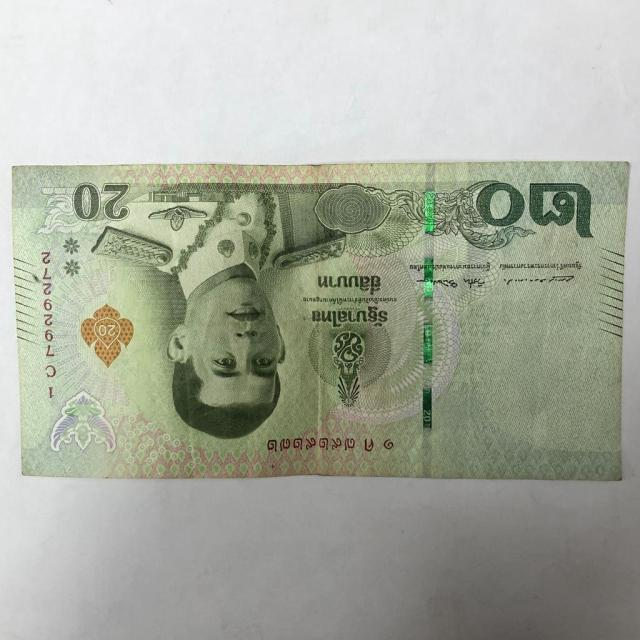THAI20: (12, 162, 629, 481)
